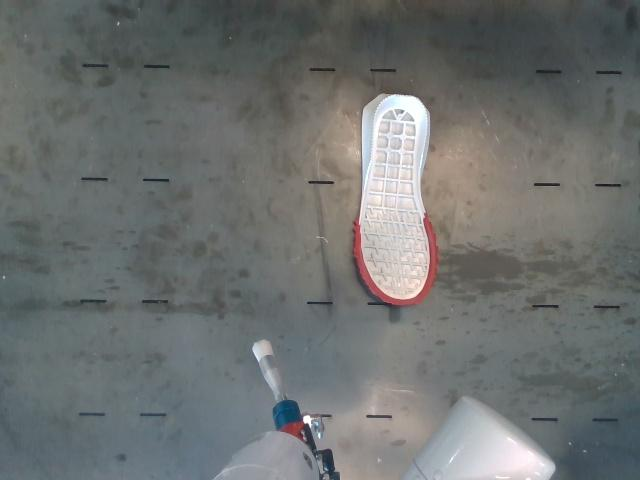shoes: (355, 95, 437, 305)
